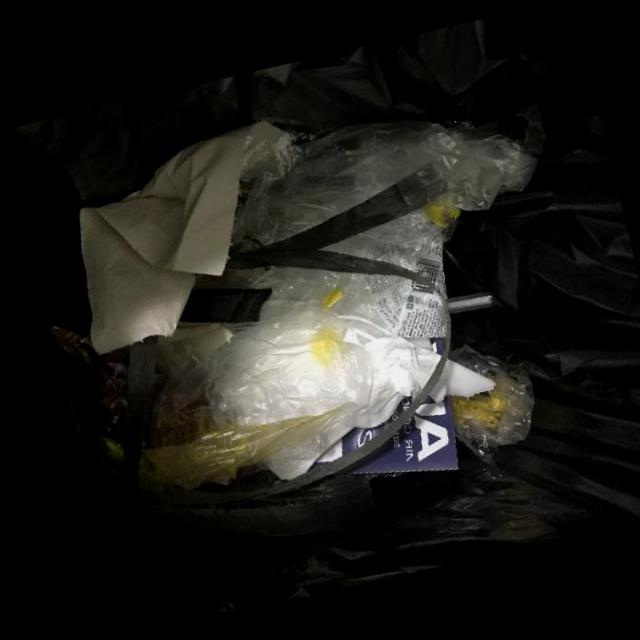giay: (79, 118, 287, 353), (343, 336, 496, 429)
tui_ni_long: (137, 311, 374, 492)
